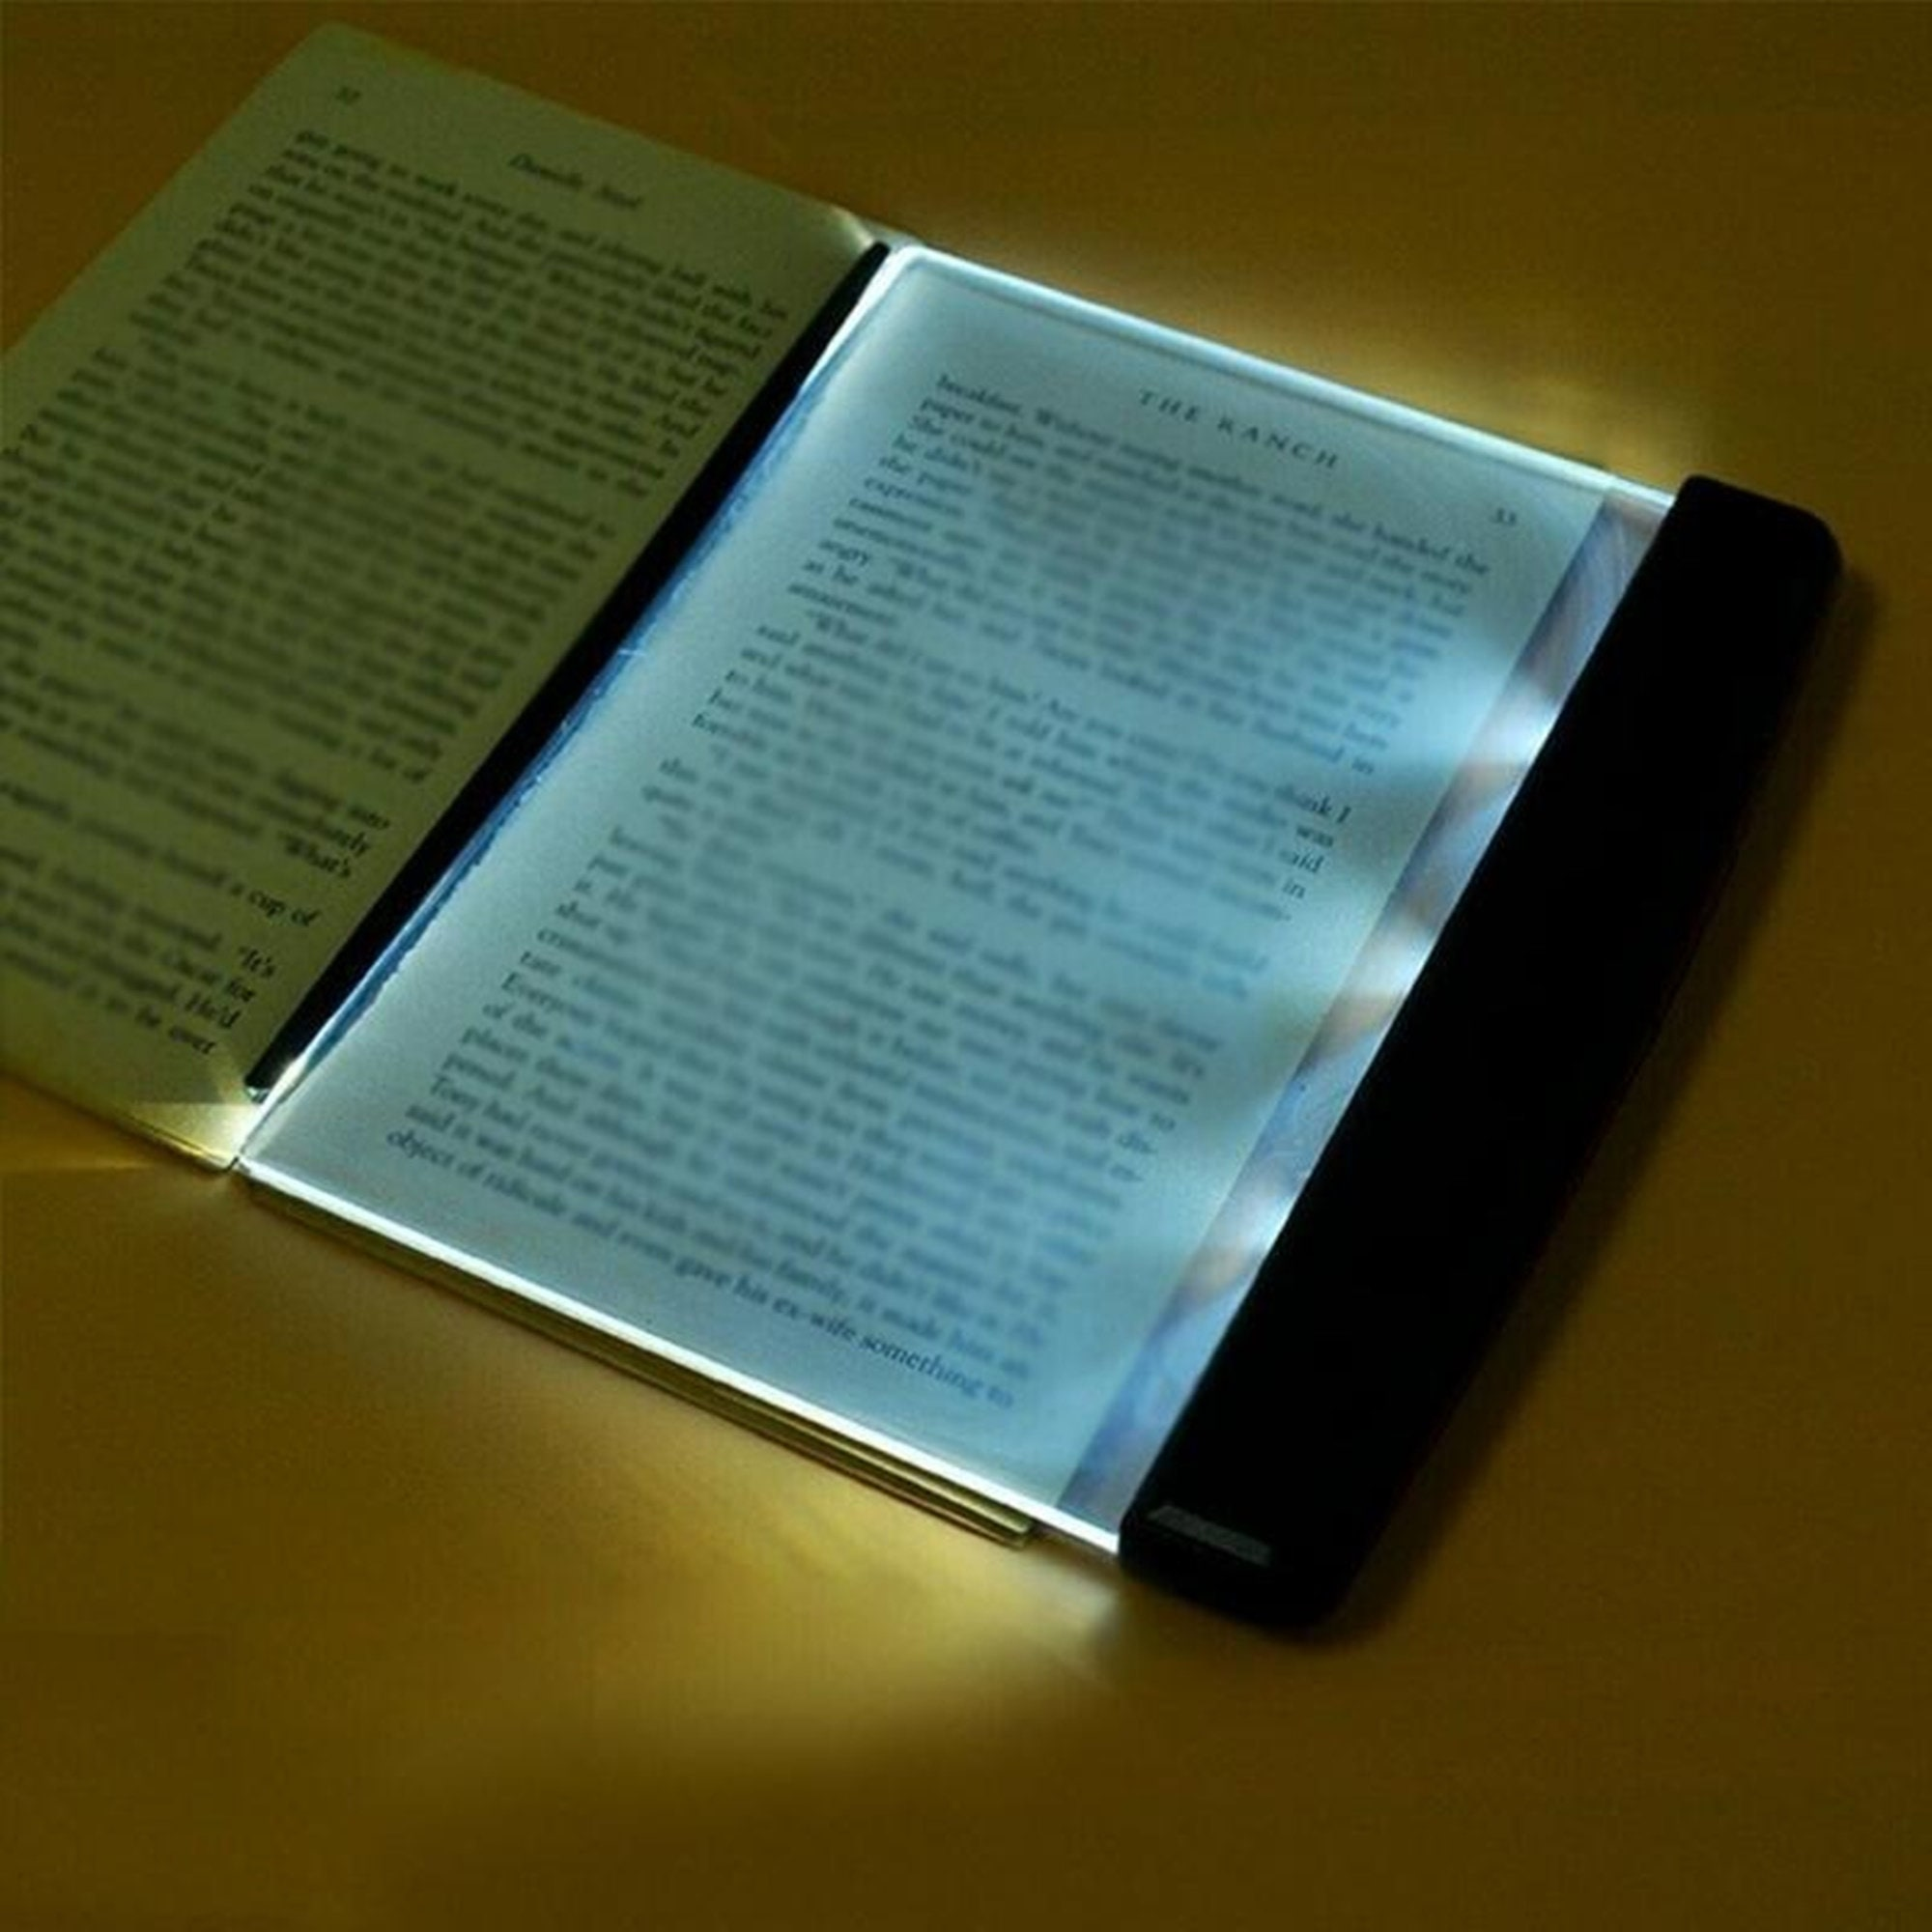book: (12, 9, 1856, 1654)
